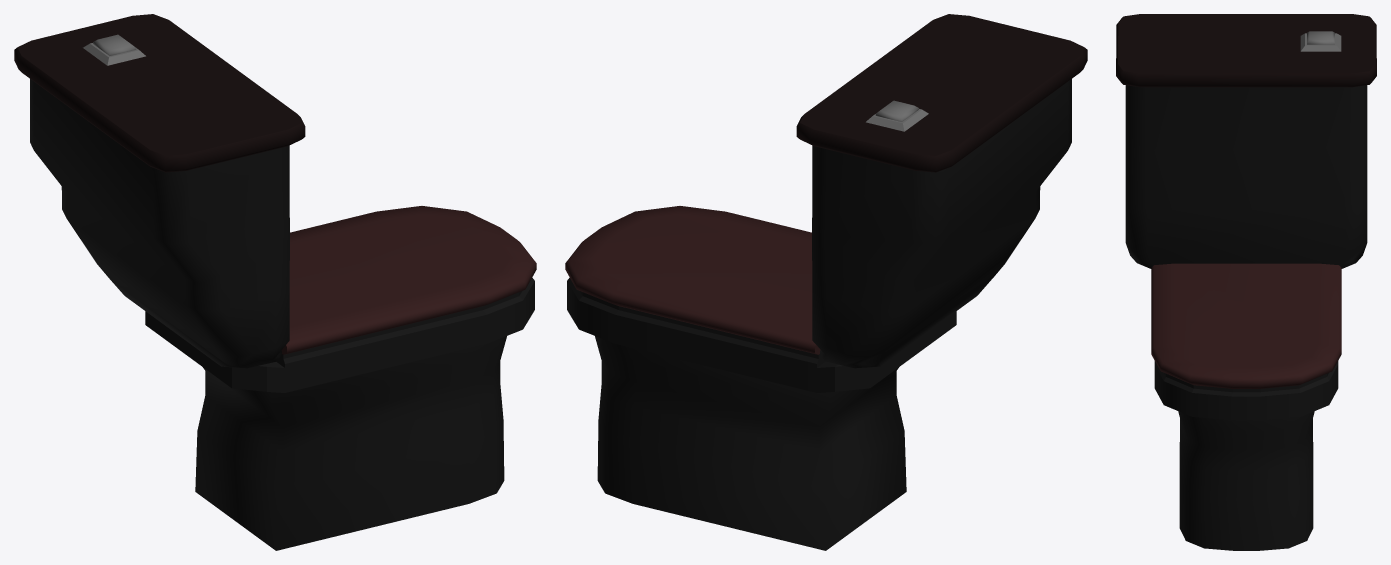
The picture shows the model from 3 angles, left to right: view 1: azimuth 30°, elevation 25°; view 2: azimuth 150°, elevation 25°; view 3: azimuth 270°, elevation 25°; orthographic projection. The views are drawn at different scales.
Parts seen in each view (by area): view 1: Box018; view 2: Box018; view 3: Box018.
Part boxes in pixels (bbox=[...]): Box018: bbox=[14, 14, 536, 550]; Box018: bbox=[565, 14, 1087, 550]; Box018: bbox=[1116, 14, 1376, 550].
Size of the model in its own units: 128 by 133 by 82.05.
